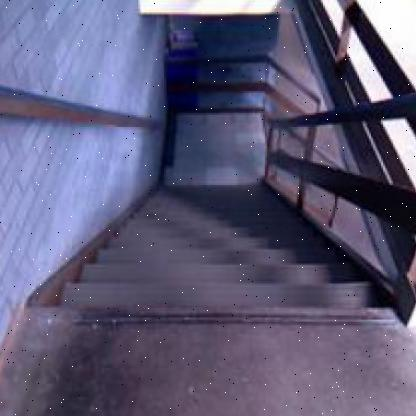stair_down: (6, 243, 415, 388)
